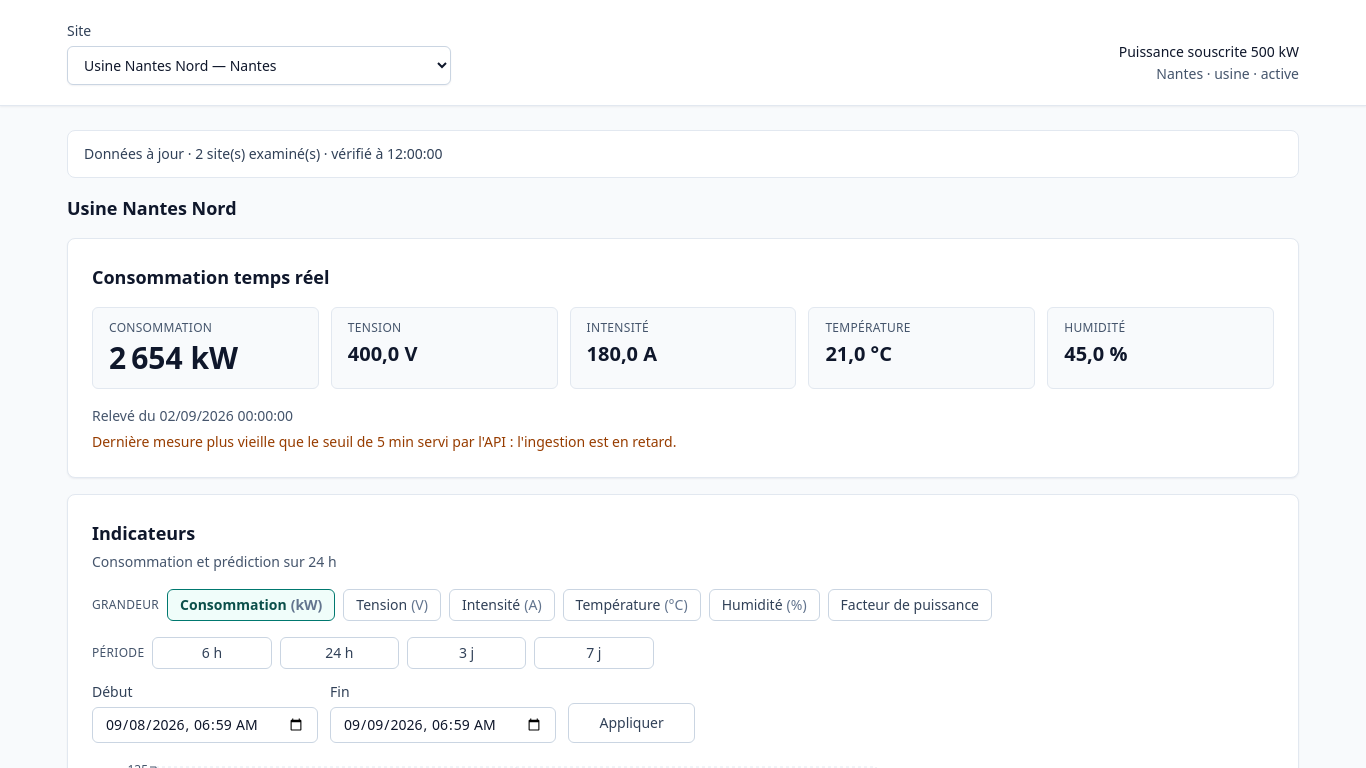
Test: SiteDashboardPage · grandeur tracée › revient à la consommation et retrouve sa prédiction
Click the button "Humidité (%)" at (764, 605), box [709,589,820,621]
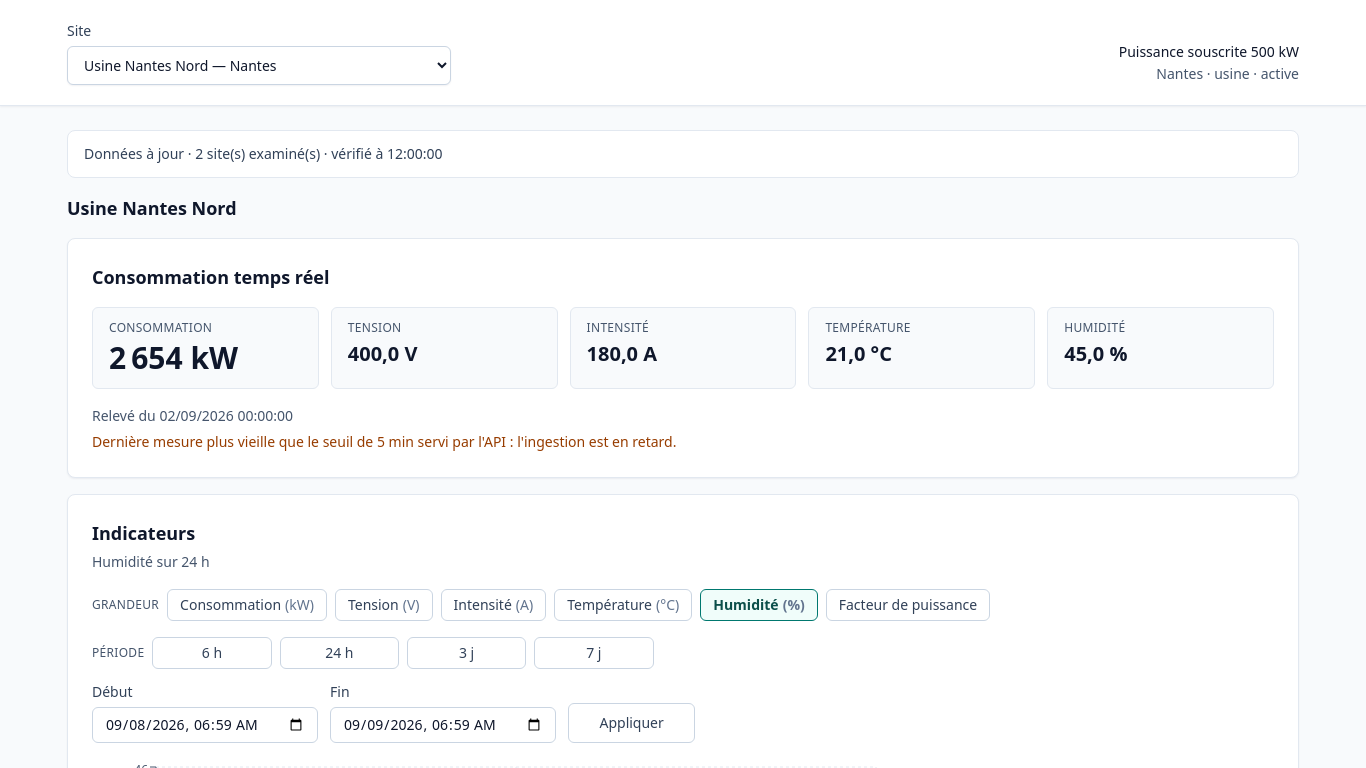
Click the button "Consommation (kW)" at (247, 605), box [167,589,327,621]
(page scrolled)
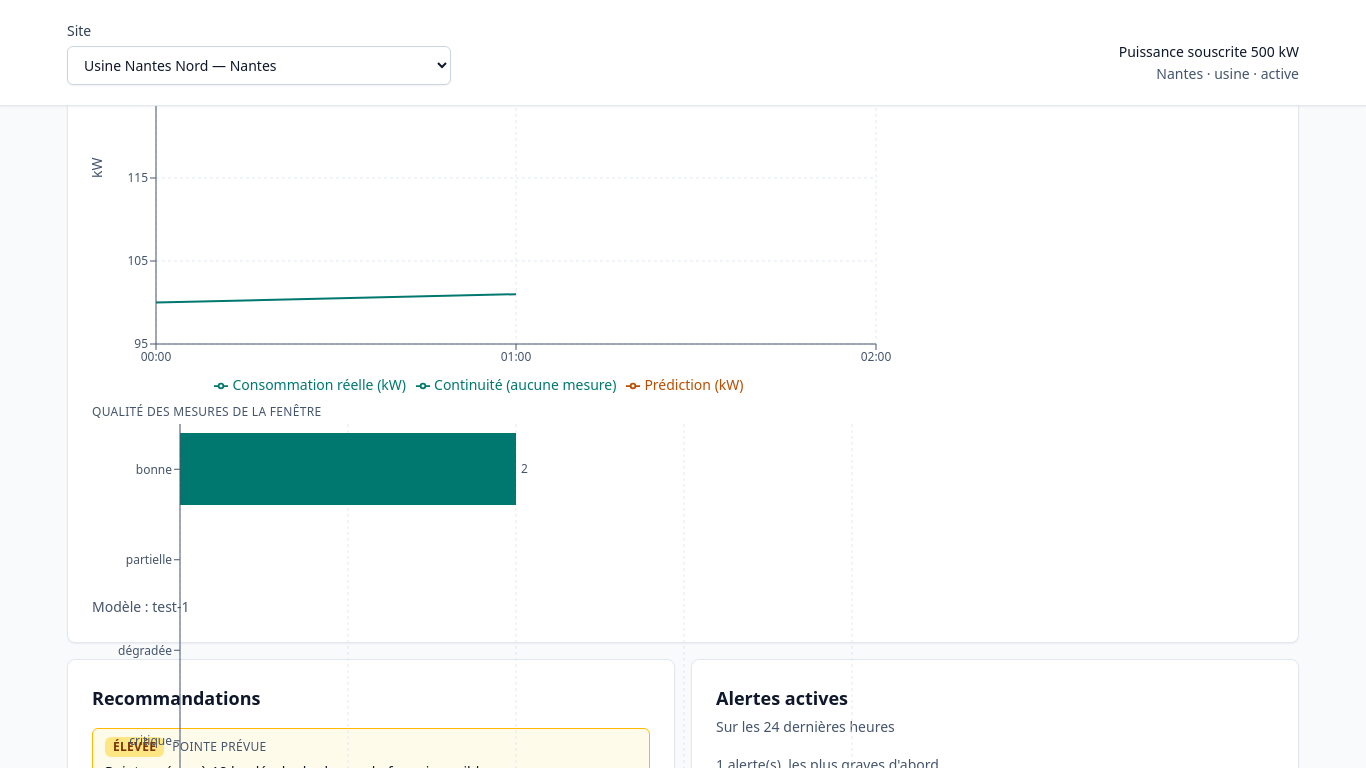
Check: the text "Consommation réelle (kW)" is shown, box [232,375,406,394]
